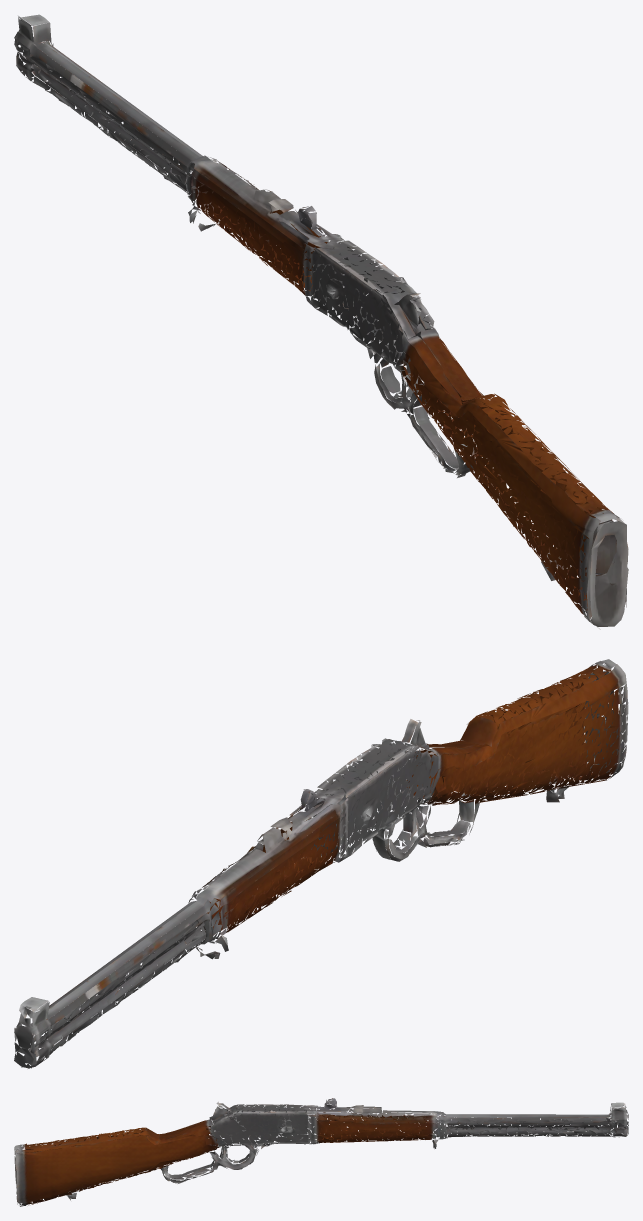
File: rifle_lever.glb
The picture shows the model from 3 angles, top to bottom: view 1: azimuth 30°, elevation 25°; view 2: azimuth 150°, elevation 25°; view 3: azimuth 270°, elevation 25°; orthographic projection. The views are drawn at different scales.
Visible parts, largest first — view 1: gun, lever; view 2: gun, lever; view 3: gun, lever.
Part boxes in pixels (x1,y1,x2,y2): gun: [14, 14, 628, 629]; lever: [374, 363, 487, 477]; gun: [14, 659, 628, 1068]; lever: [372, 776, 495, 861]; gun: [14, 1098, 628, 1206]; lever: [151, 1148, 255, 1183].
Bounding box in the file's own units: 0.0423 × 0.1923 × 1.
Materials: 1 (1 with a texture image).
